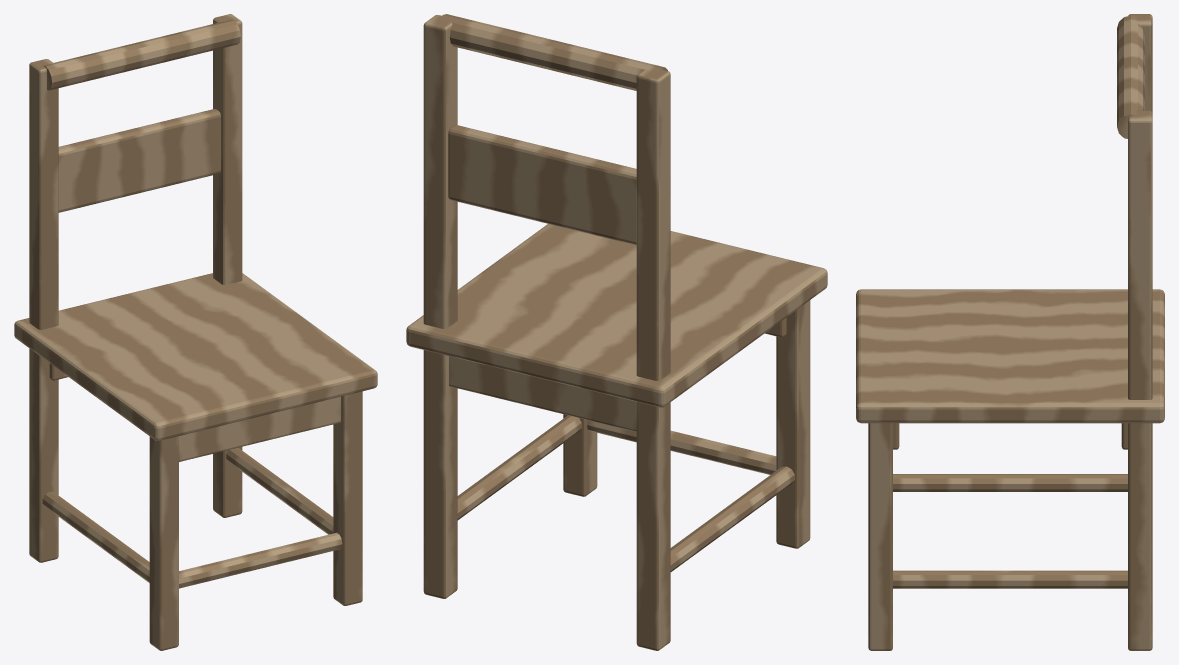
Rendered from FUR_WoodChair.fbx.
3 renders of one model, left to right at view 1: azimuth 30°, elevation 25°; view 2: azimuth 150°, elevation 25°; view 3: azimuth 270°, elevation 25°, orthographic. The views are drawn at different scales.
Visible parts, largest first — view 1: FUR_WoodChair; view 2: FUR_WoodChair; view 3: FUR_WoodChair.
Part boxes in pixels (<box>): FUR_WoodChair: <box>14,14,377,650</box>; FUR_WoodChair: <box>406,14,827,650</box>; FUR_WoodChair: <box>856,14,1164,650</box>.
Bounding box in the file's own units: 45 × 95.25 × 50.
